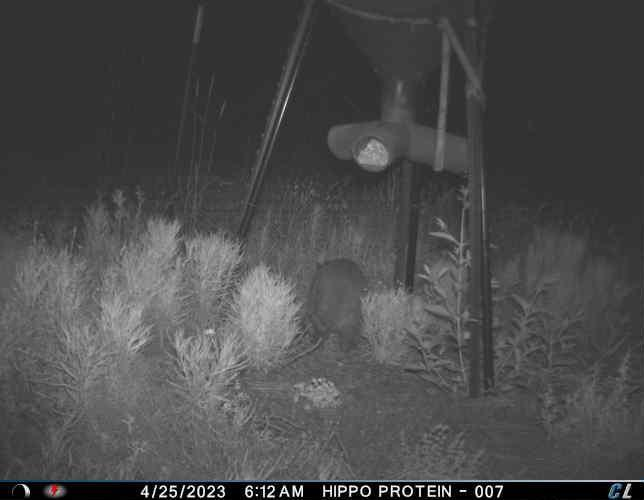Raccoon: (291, 255, 371, 355)
